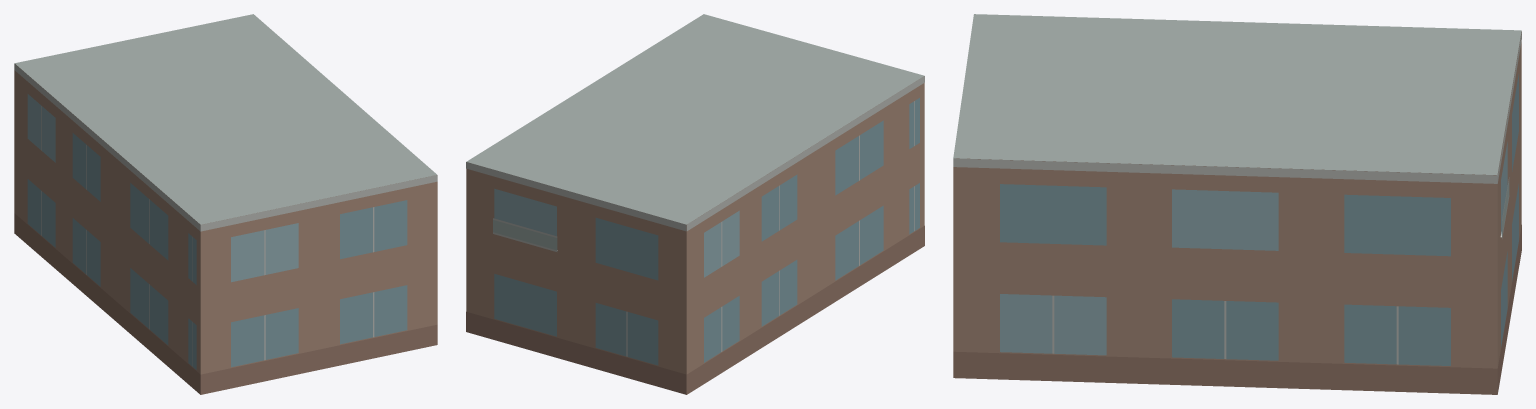
The model's file is survey-upis-32702104.glb.
The picture shows the model from 3 angles, left to right: view 1: azimuth 30°, elevation 25°; view 2: azimuth 150°, elevation 25°; view 3: azimuth 270°, elevation 25°; orthographic projection. The views are drawn at different scales.
Parts seen in each view (by area): view 1: survey-upis-32702104.tmp; view 2: survey-upis-32702104.tmp; view 3: survey-upis-32702104.tmp.
Boxes of the visible parts, x1=… form: survey-upis-32702104.tmp: x1=14, y1=14, x2=437, y2=394; survey-upis-32702104.tmp: x1=466, y1=14, x2=924, y2=394; survey-upis-32702104.tmp: x1=953, y1=14, x2=1521, y2=394.
Bounding box in the file's own units: 9.6 × 6.1 × 14.32.
